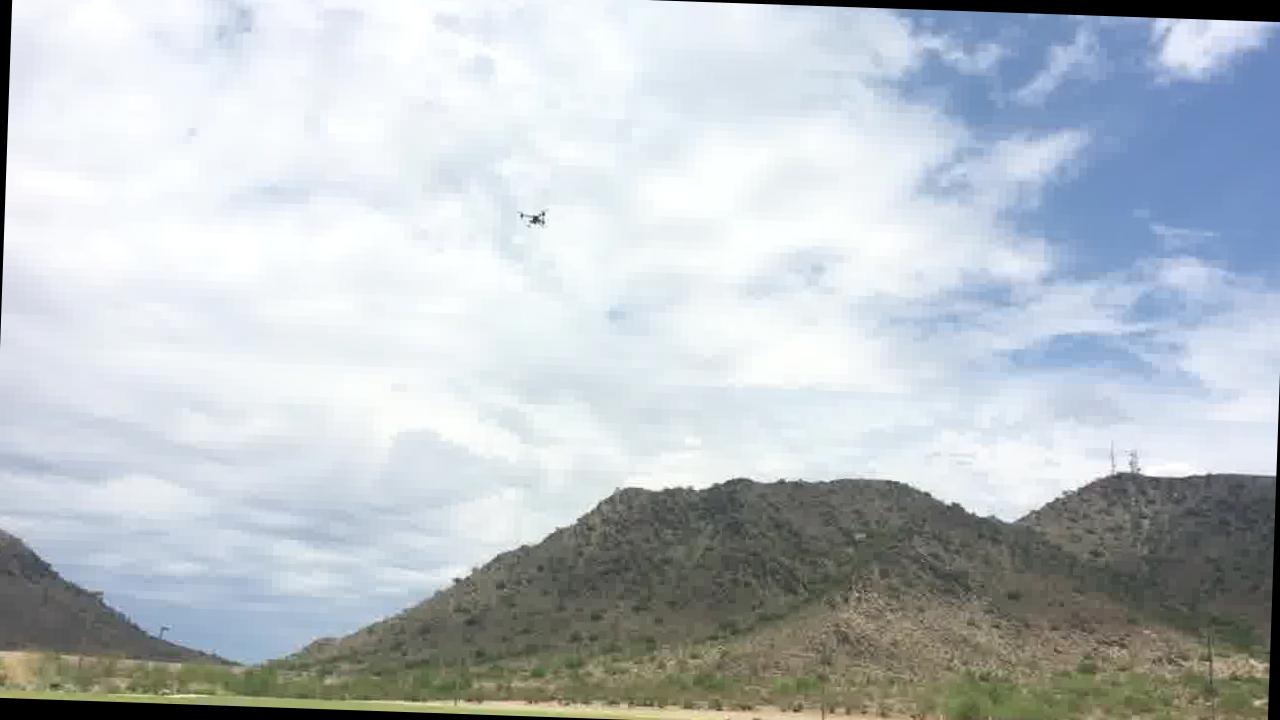drone: (516, 204, 550, 228)
